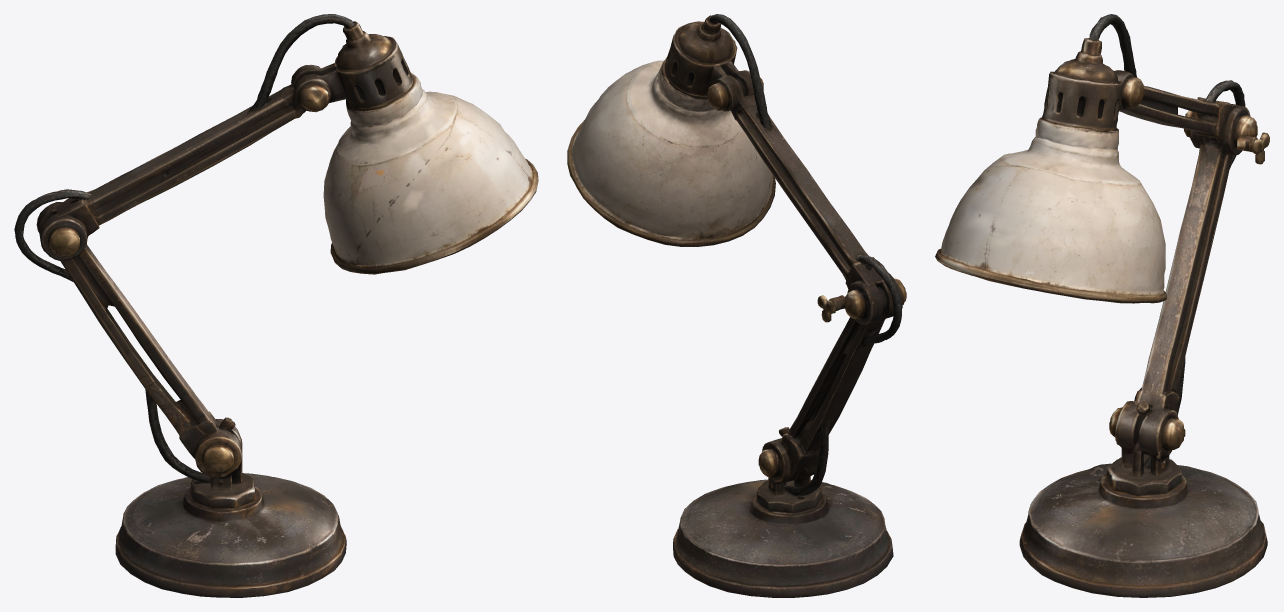
File: lamp_low.glb
3 renders of one model, left to right at view 1: azimuth 30°, elevation 25°; view 2: azimuth 150°, elevation 25°; view 3: azimuth 270°, elevation 25°, orthographic. The views are drawn at different scales.
Visible parts, largest first — view 1: tripo_node_1db4bd70-9914-446e-8d46-1f7814442b80; view 2: tripo_node_1db4bd70-9914-446e-8d46-1f7814442b80; view 3: tripo_node_1db4bd70-9914-446e-8d46-1f7814442b80.
Boxes of the visible parts, x1,y1,x2,y2 form: tripo_node_1db4bd70-9914-446e-8d46-1f7814442b80: [14, 14, 538, 597]; tripo_node_1db4bd70-9914-446e-8d46-1f7814442b80: [567, 14, 906, 597]; tripo_node_1db4bd70-9914-446e-8d46-1f7814442b80: [935, 14, 1269, 597].
Bounding box in the file's own units: 0.8164 × 0.9771 × 0.522.
1 material, 1 textured.
